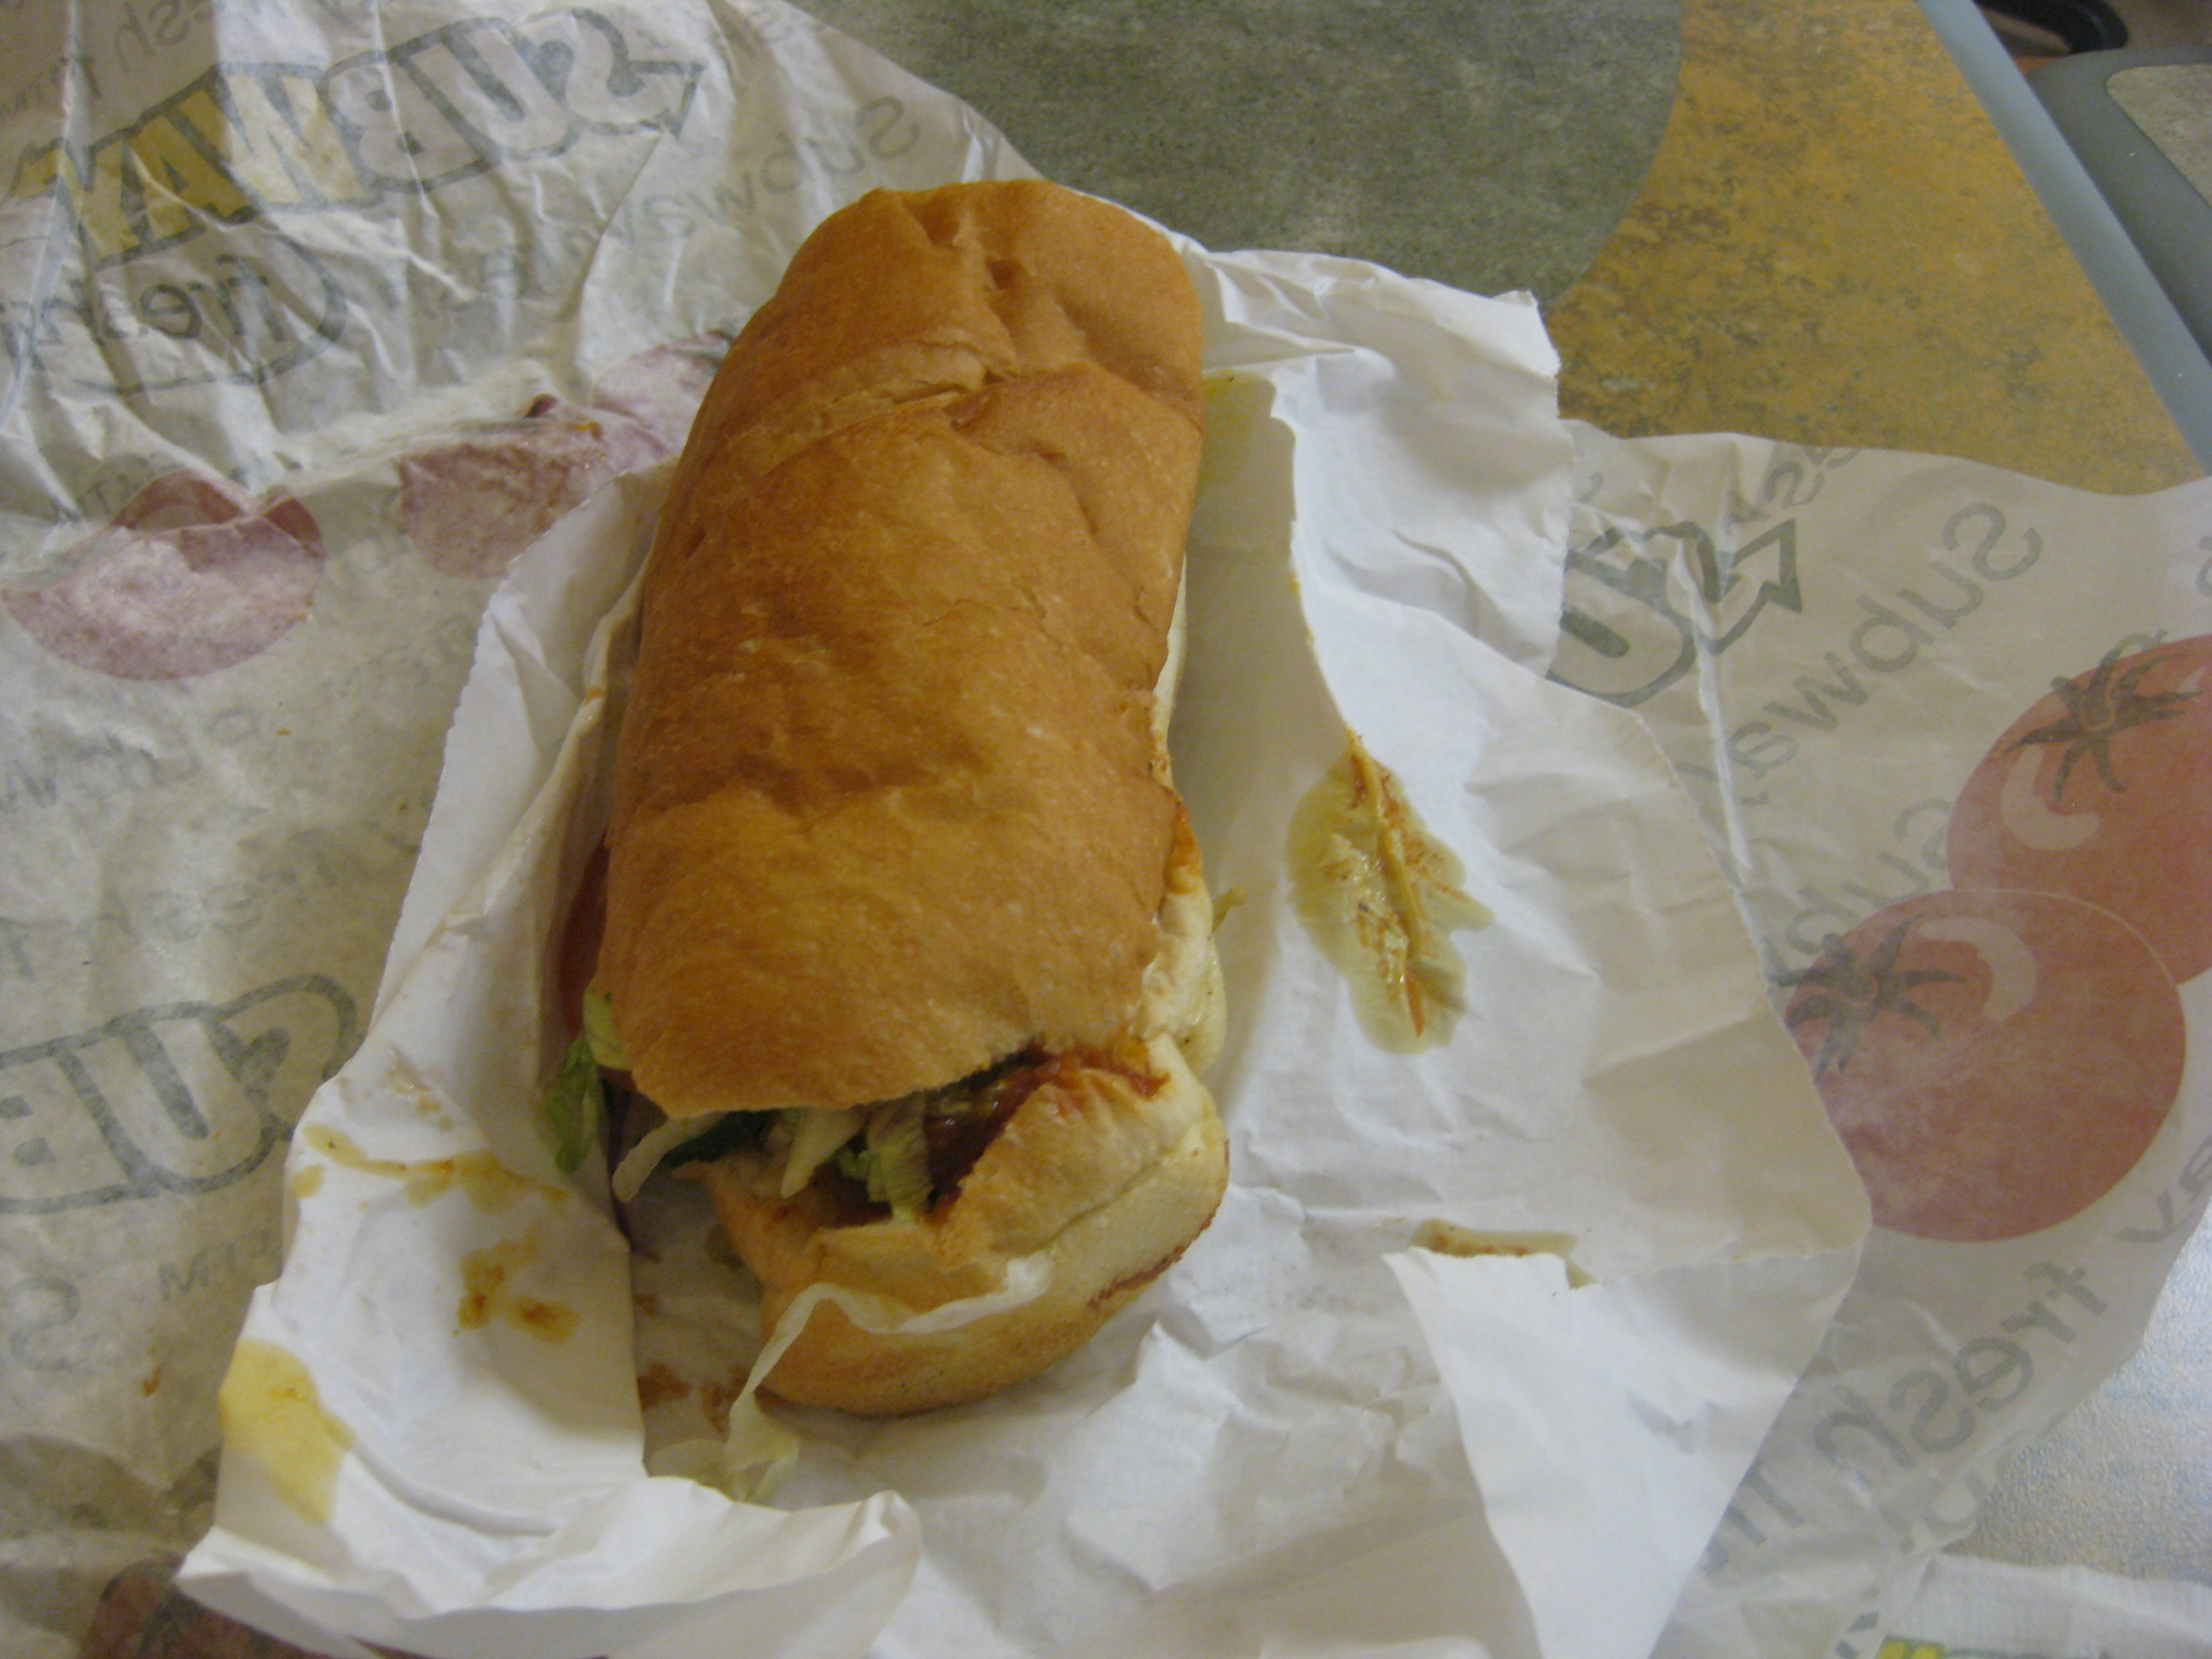sub: (538, 160, 1249, 1482)
